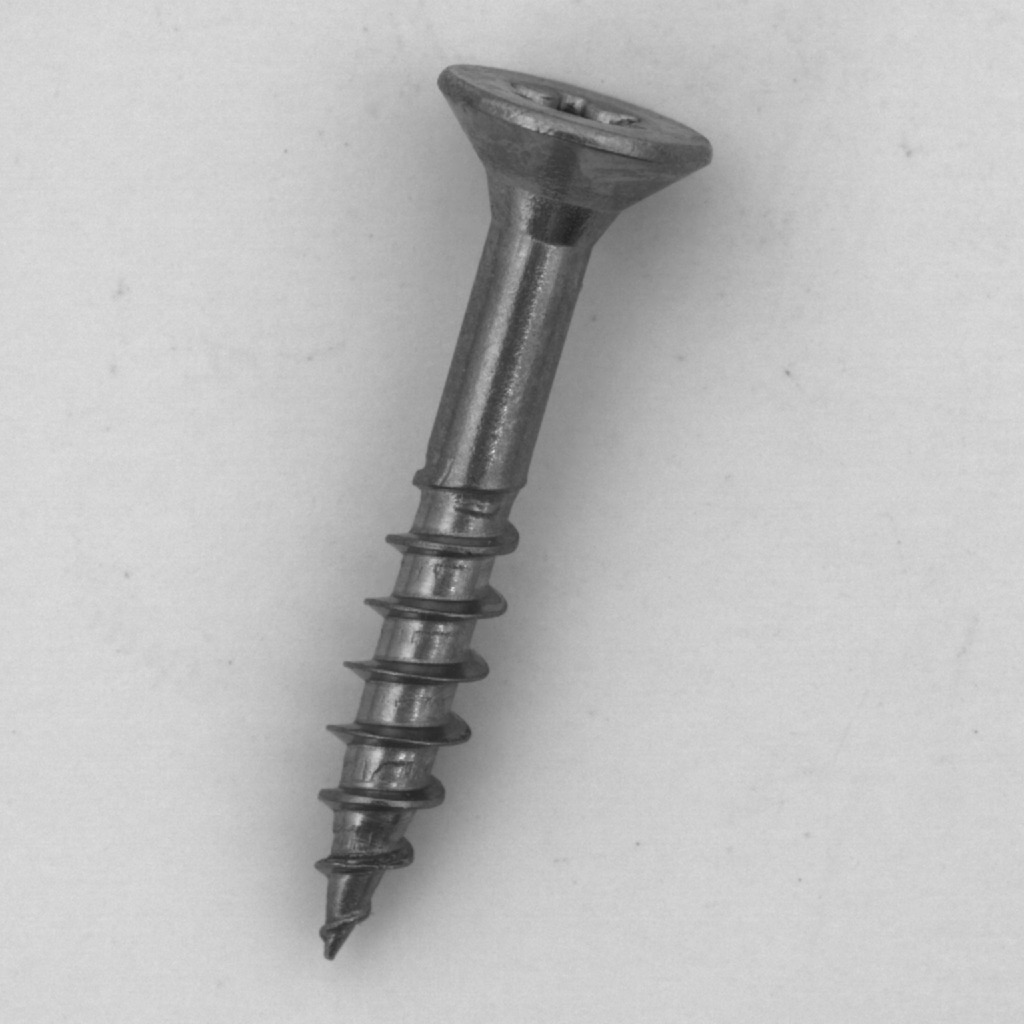good: (294, 49, 743, 969)
